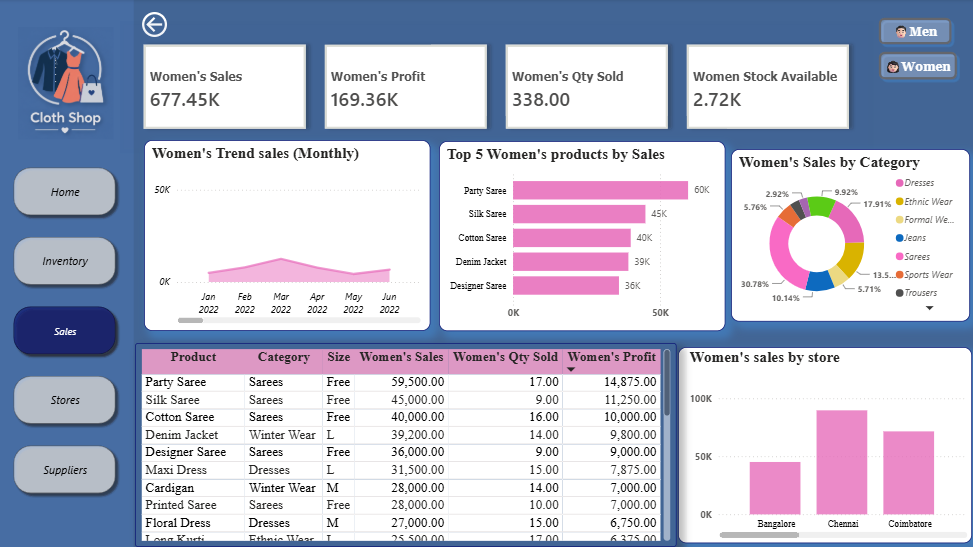

What the dashboard file says about the page in this screenshot:
{"tool":"powerbi","page":{"name":"Sales","canvas":[1280,720],"ordinal":2},"visuals":[{"type":"shape","box":[0,0,179.4,719.5],"z":0},{"type":"pageNavigator","title":"Page navigation","box":[14,213,148,443],"z":1000},{"type":"actionButton","title":"Women","box":[1149.1,64.8,112.3,46.1],"z":8000},{"type":"actionButton","title":"Men","box":[1149.1,20.2,105.1,44.6],"z":9000},{"type":"actionButton","box":[180,11.5,54.7,43.2],"z":11000},{"type":"cardVisual","fields":{"Data":["INVENTORY_SALES.Women's Sales","INVENTORY_SALES.Women's Profit","INVENTORY_SALES.Women's Qty Sold","INVENTORY_SALES.Women Stock Available"]},"box":[161.3,28.8,986.4,172.8],"z":19000},{"type":"lineChart","title":"Women''s Trend sales (Monthly)","fields":{"Category":["DATES.Month Year"],"Y":["INVENTORY_SALES.Women's Sales"]},"box":[192,184.6,375.1,250],"z":20000},{"type":"clusteredBarChart","title":"Top 5  Women''s products by Sales","fields":{"Category":["PRODUCTS.PRODUCT_NAME"],"Y":["INVENTORY_SALES.Women's Sales"]},"box":[579,186,375.1,248.6],"z":21000},{"type":"donutChart","title":"Women''s Sales by Category","fields":{"Category":["PRODUCTS.CATEGORY"],"Y":["INVENTORY_SALES.Women's Sales"]},"box":[961.5,196.5,312.6,226.2],"z":22000},{"type":"clusteredColumnChart","title":"Women''s sales by store","fields":{"Category":["STORES.CITY"],"Y":["INVENTORY_SALES.Women's Sales"]},"box":[892,456,384.7,257.1],"z":23000},{"type":"tableEx","fields":{"Values":["PRODUCTS.PRODUCT_NAME","PRODUCTS.CATEGORY","PRODUCTS.SIZE","INVENTORY_SALES.Women's Sales","INVENTORY_SALES.Women's Qty Sold","INVENTORY_SALES.Women's Profit"]},"box":[180,450,709,267],"z":24000},{"type":"image","box":[10.1,36,158.4,146.9],"z":25000}]}

Visuals, with their boxes in screenshot pixels (x1, y1, x2, y2), scaled from the page's 1280x720 canvas onto the 973x547 screenshot:
shape: x1=0, y1=0, x2=136, y2=546
"Page navigation" pageNavigator: x1=11, y1=162, x2=123, y2=498
"Women" actionButton: x1=873, y1=49, x2=959, y2=84
"Men" actionButton: x1=873, y1=15, x2=953, y2=49
actionButton: x1=137, y1=9, x2=178, y2=42
cardVisual - INVENTORY_SALES.Women's Sales x INVENTORY_SALES.Women's Profit: x1=123, y1=22, x2=872, y2=153
"Women''s Trend sales (Monthly)" lineChart: x1=146, y1=140, x2=431, y2=330
"Top 5  Women''s products by Sales" clusteredBarChart: x1=440, y1=141, x2=725, y2=330
"Women''s Sales by Category" donutChart: x1=731, y1=149, x2=969, y2=321
"Women''s sales by store" clusteredColumnChart: x1=678, y1=346, x2=970, y2=542
tableEx - PRODUCTS.PRODUCT_NAME x PRODUCTS.CATEGORY: x1=137, y1=342, x2=676, y2=545
image: x1=8, y1=27, x2=128, y2=139
